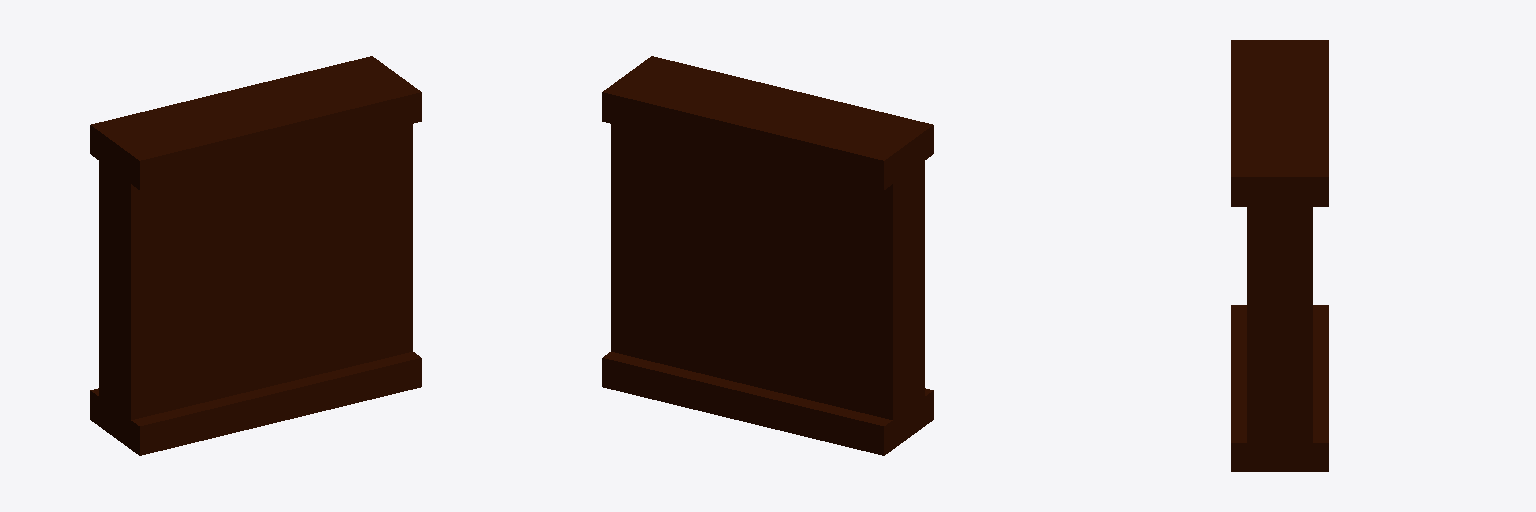
File: 2x2_wall.obj
3 renders of one model, left to right at view 1: azimuth 30°, elevation 25°; view 2: azimuth 150°, elevation 25°; view 3: azimuth 270°, elevation 25°, orthographic.
Visible parts, largest first — view 1: wall; view 2: wall; view 3: wall.
Boxes of the visible parts, x1,y1,x2,y2 form: wall: [90, 56, 421, 455]; wall: [602, 56, 933, 455]; wall: [1231, 40, 1328, 471].
Bounding box in the file's own units: 2 × 2 × 0.607.